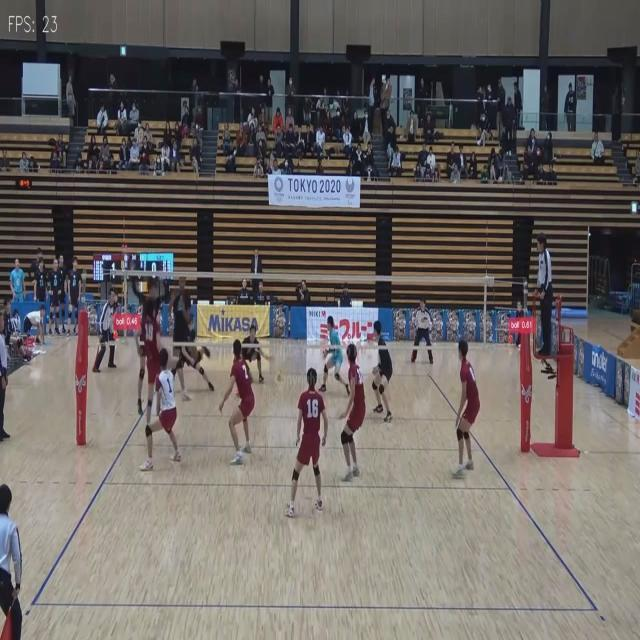volleyball: (275, 370, 285, 382)
